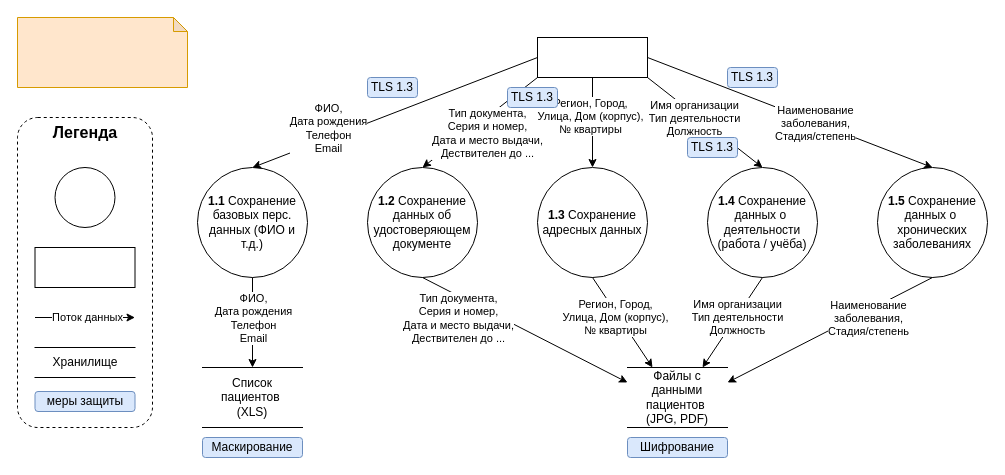
The diagram is 1005 pixels wide and 475 high, and some of its shapes have lost their labels. Here are the shapes that lost their labels. From the top down, the centre of each, then its label:
At point 102,52: "Диаграмма потоков данных для процесса #1 - Регистрация клиентов .".
At point 592,57: "Администратор".
At point 84,197: "Процесс".
At point 84,267: "Сущность (система / персона)".
